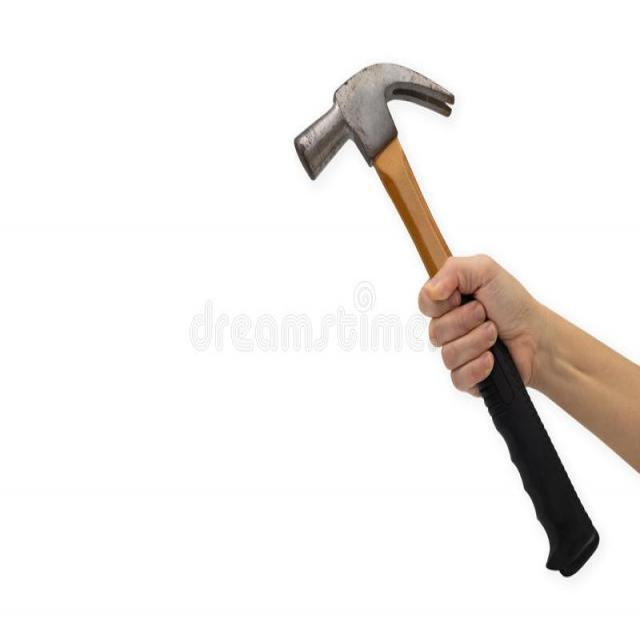hammer: (279, 48, 606, 591)
